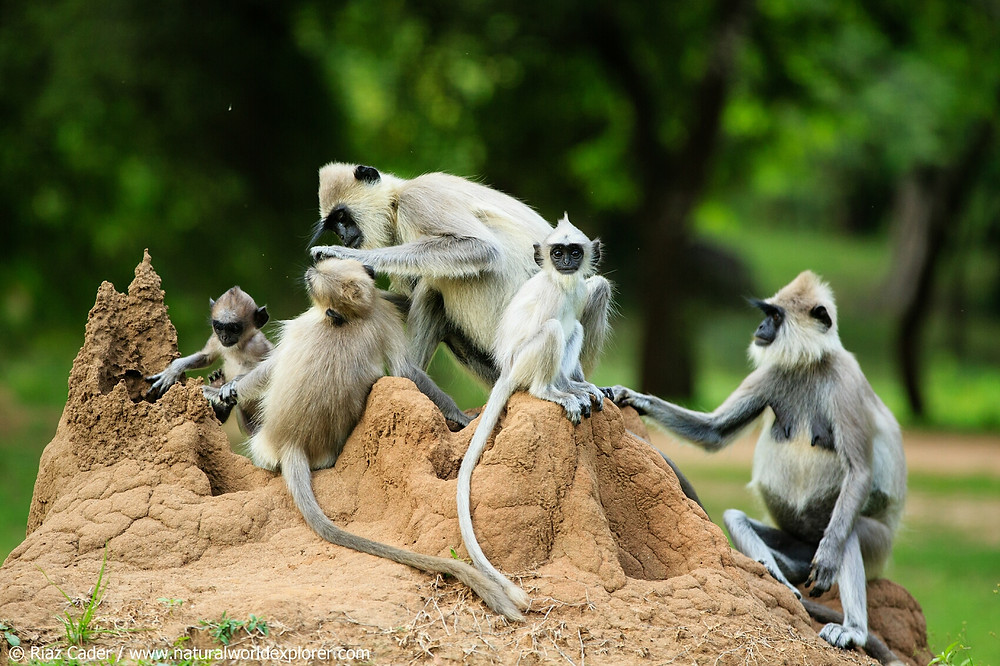Monkey: (719, 257, 930, 633)
